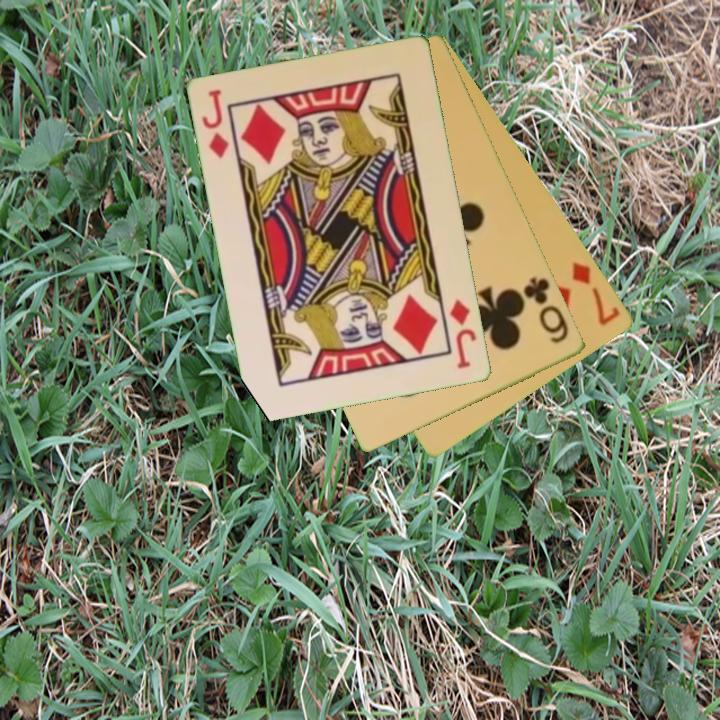6c: (520, 273, 572, 347)
7d: (569, 258, 624, 329)
Jd: (198, 86, 233, 162), (447, 296, 480, 372)
